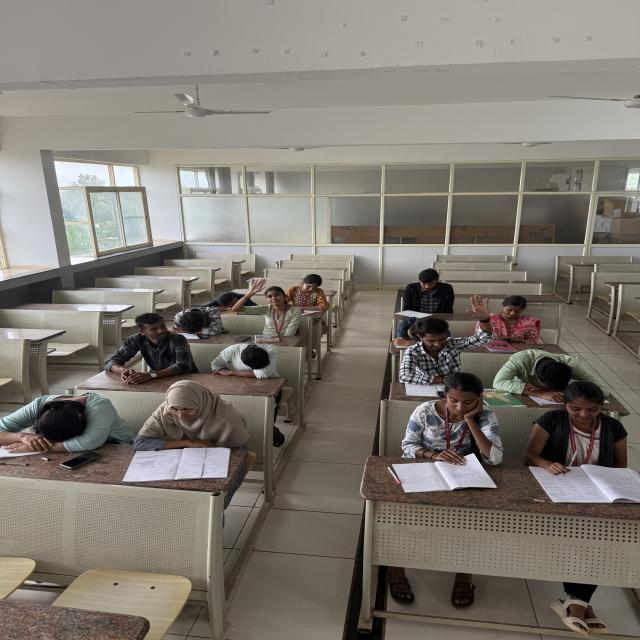Hand Rising: (400, 293, 498, 378), (233, 278, 301, 334)
Reading: (387, 372, 501, 488), (129, 377, 240, 466), (398, 270, 454, 315)
Sleeping: (0, 383, 128, 462), (486, 344, 617, 402), (200, 338, 284, 380), (389, 309, 452, 346), (165, 305, 228, 338), (197, 290, 263, 314)
Using Phone: (472, 295, 545, 344)
Writing: (524, 379, 640, 486), (285, 271, 329, 315)
